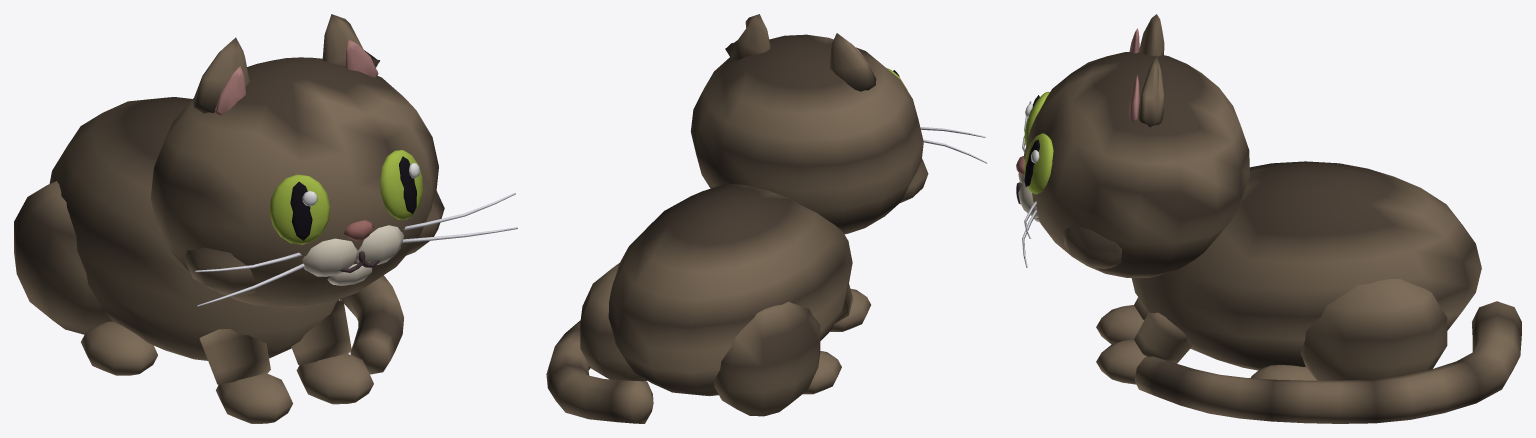
The model's file is cat_tabby.glb.
3 views of the same model, side by side, from view 1: azimuth 30°, elevation 25°; view 2: azimuth 150°, elevation 25°; view 3: azimuth 270°, elevation 25° (orthographic). The views are drawn at different scales.
Visible parts, largest first — view 1: cat_tabby, tail; view 2: cat_tabby, tail; view 3: cat_tabby, tail.
Part boxes in pixels (x1,y1,x2,y2): cat_tabby: (14,14,517,423); tail: (339,275,403,374); cat_tabby: (580,14,987,416); tail: (546,320,653,423); cat_tabby: (1016,14,1481,384); tail: (1134,301,1521,423).
Size of the model in its own units: 0.2239 by 0.2434 by 0.3374.
